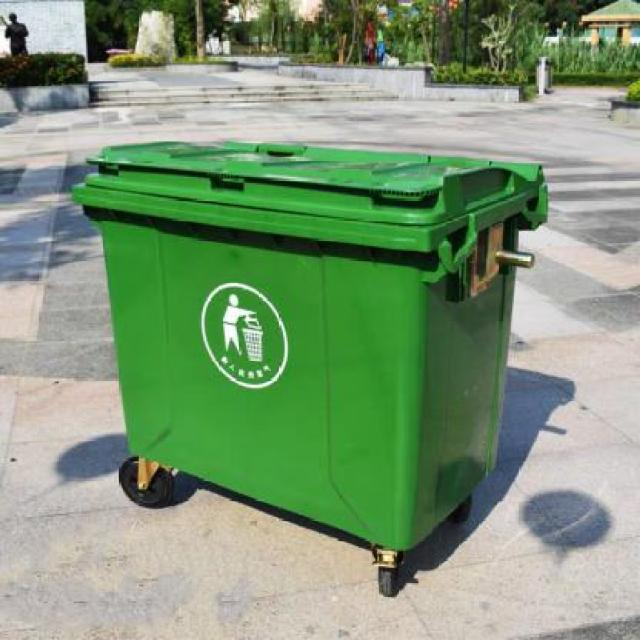garbage container: (46, 130, 563, 616)
